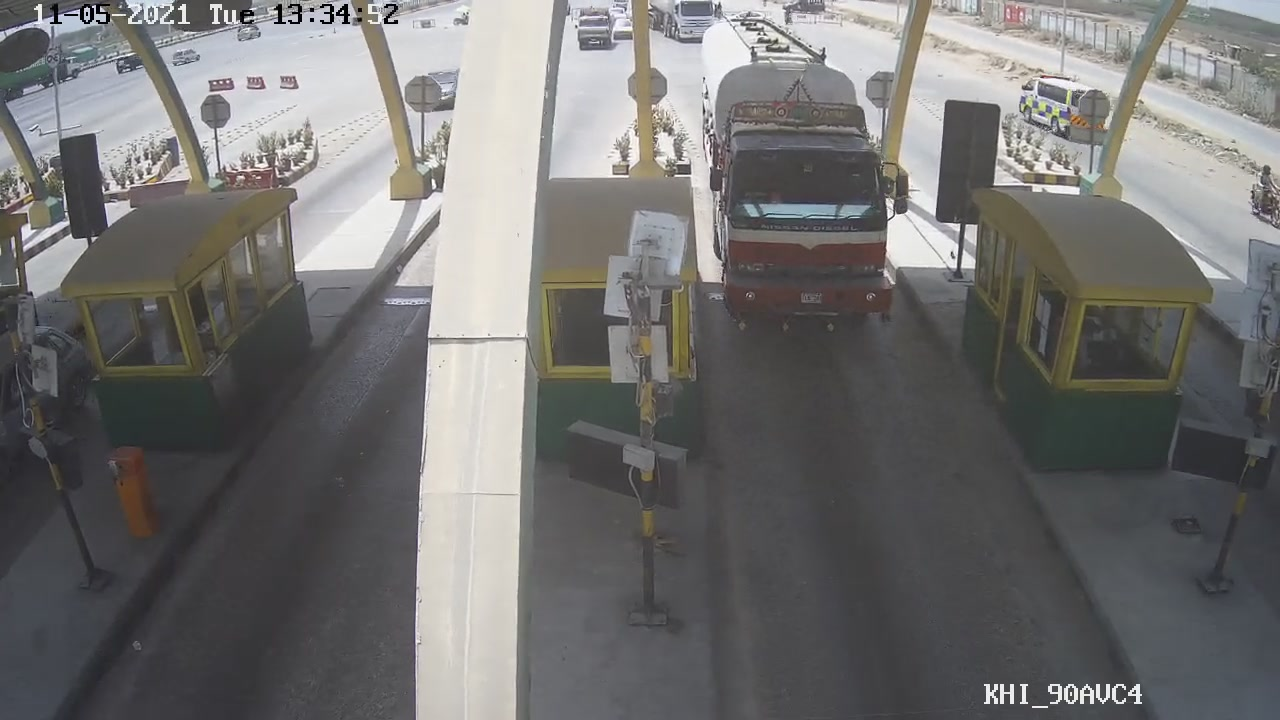F6: (706, 19, 904, 335)
